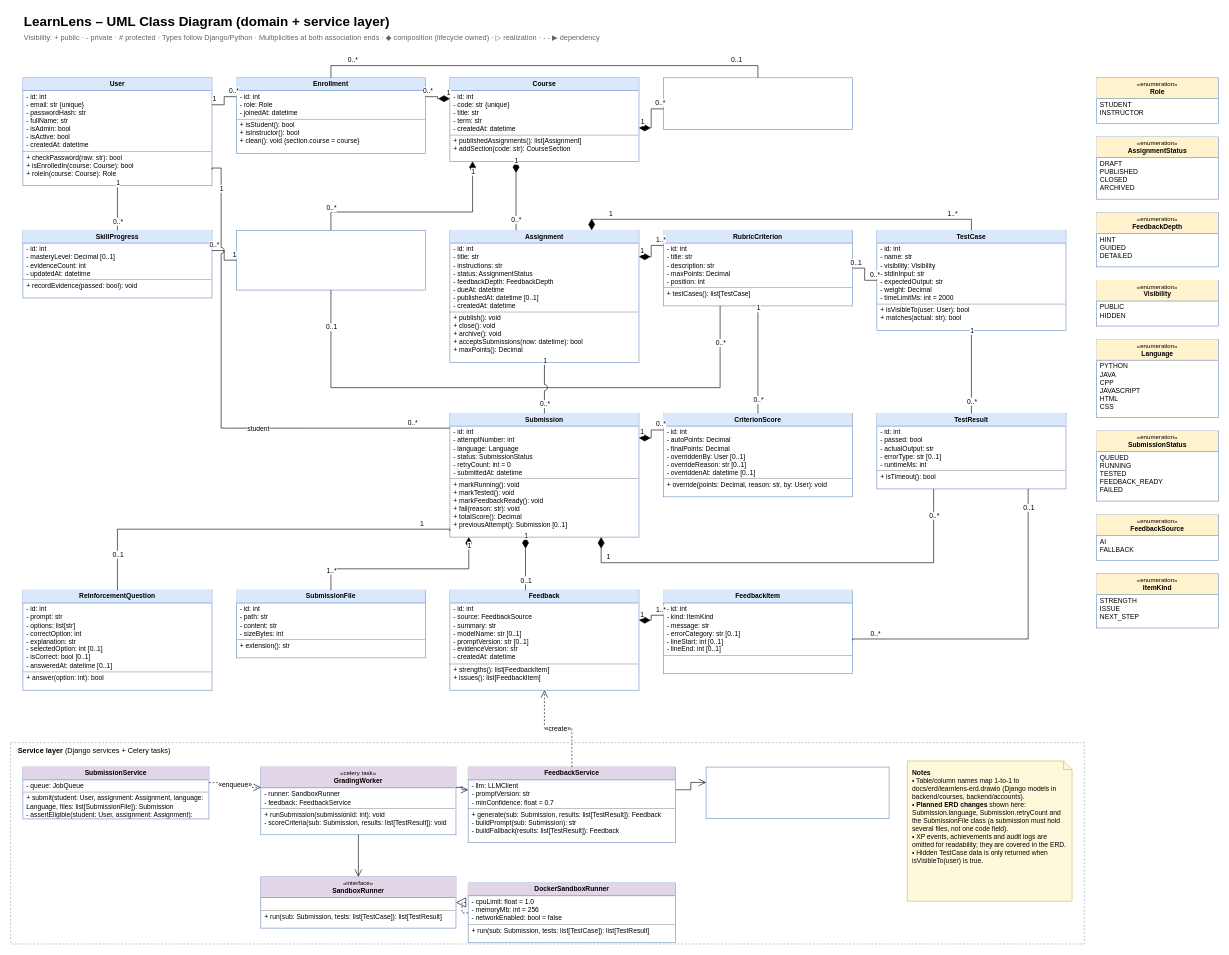
Some shapes in this 1229 by 955 pixel diagram are drawn without their labels. The shapes that lost their labels are listed below. From the top down, each one's centre as x and y in pixels, then its label:
the point at 757,103: CourseSection - id: int - code: str {unique per course} + students(): list[User]
the point at 330,260: Skill - id: int - name: str - description: str
the point at 797,792: «interface» LLMClient + complete(prompt: str, timeoutS: int): LLMResponse
